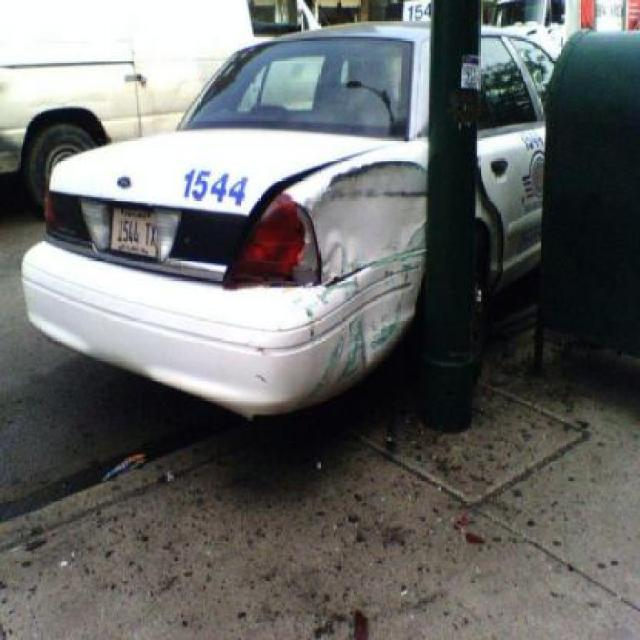License-Plates: (112, 207, 159, 257)
